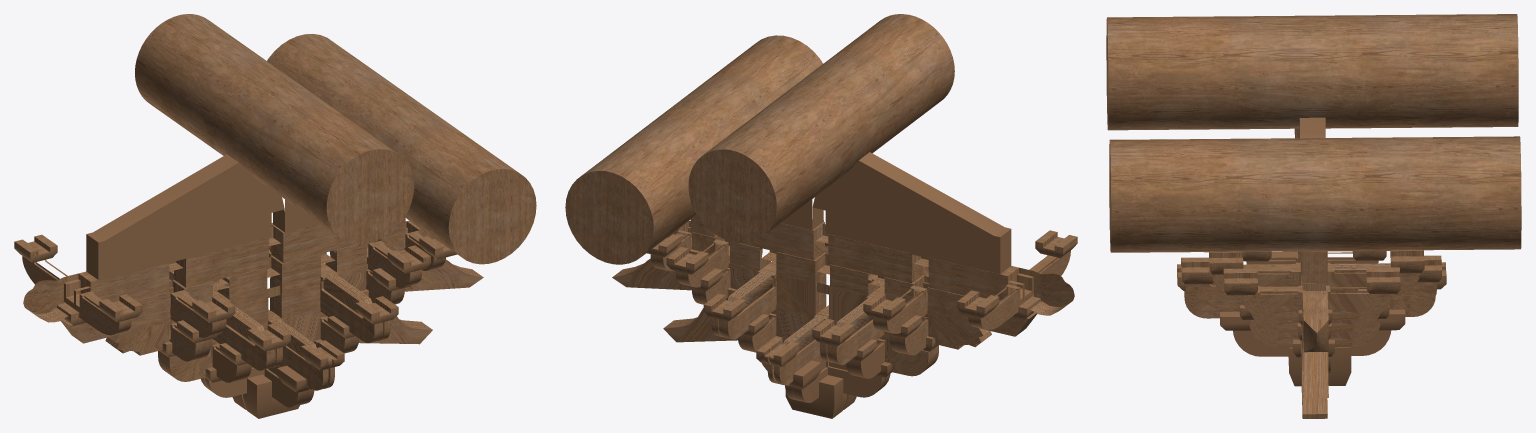
3 views of the same model, side by side, from view 1: azimuth 30°, elevation 25°; view 2: azimuth 150°, elevation 25°; view 3: azimuth 270°, elevation 25° (orthographic). The views are drawn at different scales.
Parts seen in each view (by area): view 1: 正心桁, 挑檐桁, 桁椀, 撑木头, 单才万拱 (×4), 蚂蚱头, 三才升 (×7), 二昂, 单才瓜拱 (×4), 头昂, 里拽相拱, 正心万拱 (+4 smaller); view 2: 正心桁, 挑檐桁, 桁椀, 撑木头, 单才万拱 (×4), 二昂, 蚂蚱头, 三才升 (×6), 头昂, 单才瓜拱 (×4), 里拽相拱, 正心万拱 (+5 smaller); view 3: 挑檐桁, 正心桁, 单才万拱 (×2), 三才升 (×6), 外拽相拱, 单才瓜拱 (×3), 蚂蚱头, 单翘, 二昂, 坐斗, 槽升子 (×2), 撑木头 (+3 smaller).
Part boxes in pixels (box(x1,y1,x2,y2)): 正心桁: box(135, 14, 414, 244); 挑檐桁: box(267, 34, 536, 264); 桁椀: box(86, 154, 319, 281); 撑木头: box(23, 217, 405, 322); 单才万拱 (×4): box(169, 240, 422, 370); 蚂蚱头: box(61, 220, 434, 343); 三才升 (×7): box(14, 234, 456, 351); 二昂: box(105, 259, 483, 355); 单才瓜拱 (×4): box(169, 250, 404, 382); 头昂: box(158, 303, 432, 381); 里拽相拱: box(22, 256, 131, 335); 正心万拱: box(227, 286, 334, 390); 正心桁: box(688, 14, 954, 243); 挑檐桁: box(565, 35, 822, 264); 桁椀: box(781, 152, 1011, 273); 撑木头: box(690, 215, 1074, 315); 单才万拱 (×4): box(675, 239, 928, 364); 二昂: box(612, 258, 991, 349); 蚂蚱头: box(667, 221, 1036, 336); 三才升 (×6): box(666, 230, 1077, 346); 头昂: box(663, 305, 938, 376); 单才瓜拱 (×4): box(691, 248, 928, 378); 里拽相拱: box(968, 250, 1070, 330); 正心万拱: box(767, 283, 869, 385); 挑檐桁: box(1109, 136, 1521, 252); 正心桁: box(1106, 14, 1518, 130); 单才万拱 (×2): box(1185, 262, 1436, 310); 三才升 (×6): box(1181, 250, 1441, 295); 外拽相拱: box(1241, 285, 1391, 320); 单才瓜拱 (×3): box(1246, 251, 1380, 347); 蚂蚱头: box(1294, 129, 1328, 352); 单翘: box(1233, 330, 1391, 356); 二昂: box(1298, 251, 1328, 398); 坐斗: box(1288, 347, 1351, 386); 槽升子 (×2): box(1220, 309, 1405, 330); 撑木头: box(1295, 128, 1327, 283).
Size of the model in its own units: 34.49 by 23.54 by 24.79.
Materials: 1 (1 with a texture image).
